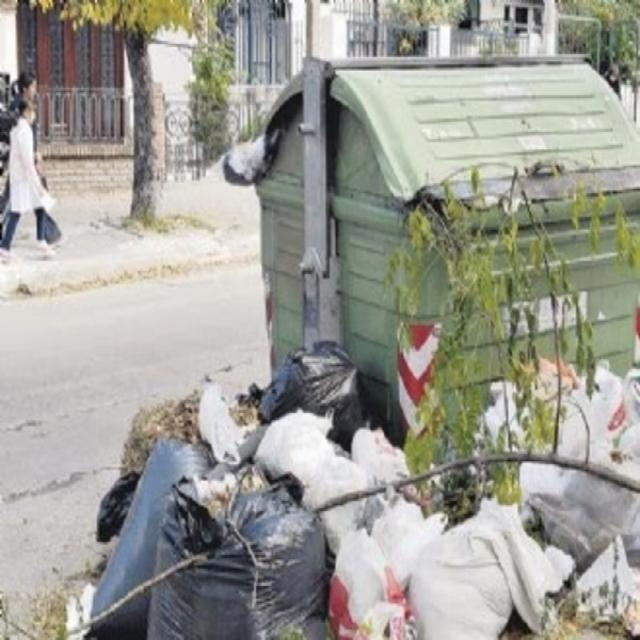garbage: (206, 382, 402, 638), (403, 520, 639, 638), (491, 353, 638, 520), (88, 432, 204, 638), (284, 341, 361, 392)
